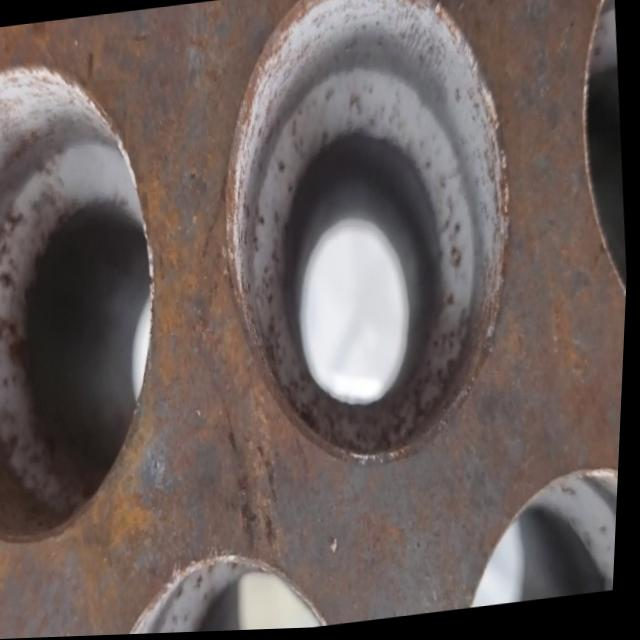Hole: (200, 0, 540, 486), (0, 44, 186, 551), (98, 539, 366, 637), (449, 465, 623, 613)
